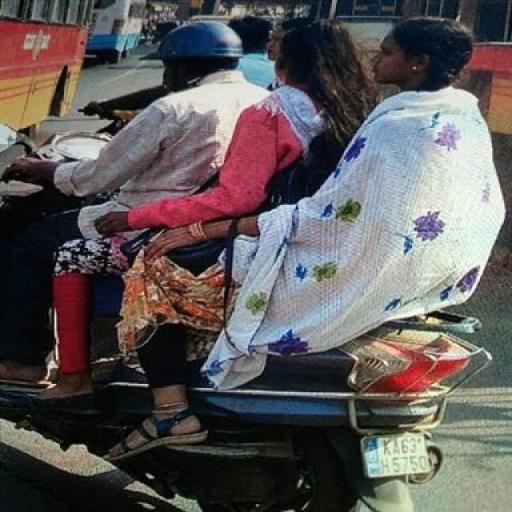tripple riding: (23, 10, 507, 316)
